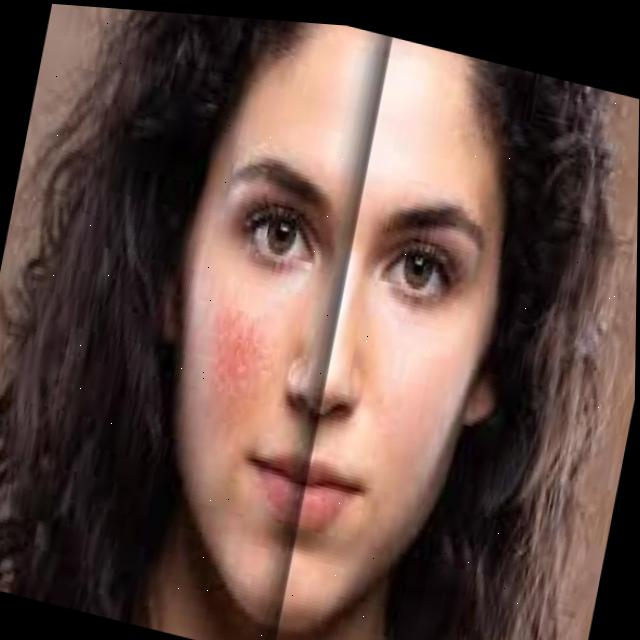Rosacea: (181, 291, 287, 425)
